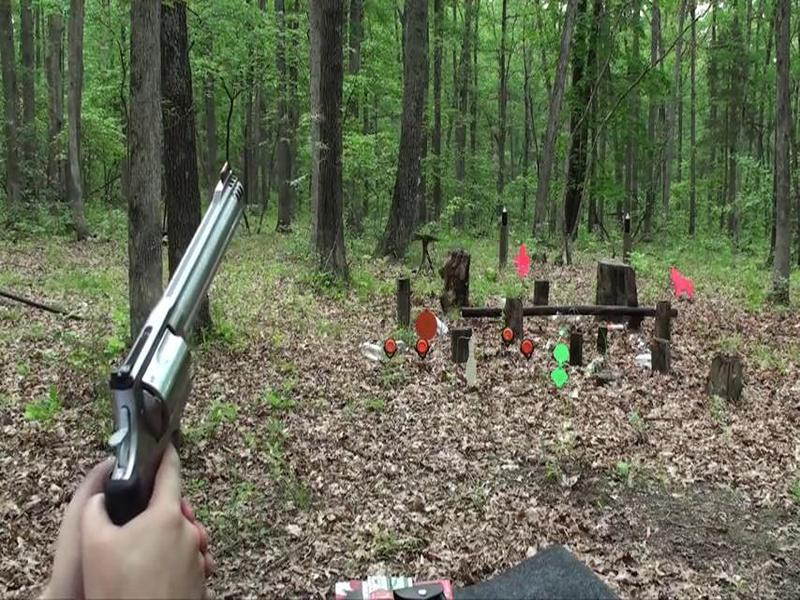Revolver: (88, 167, 268, 523)
